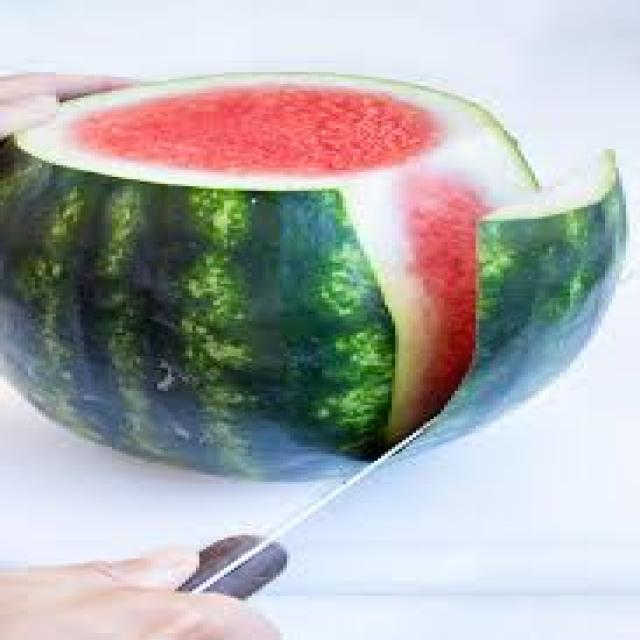watermelon: (14, 64, 624, 478)
